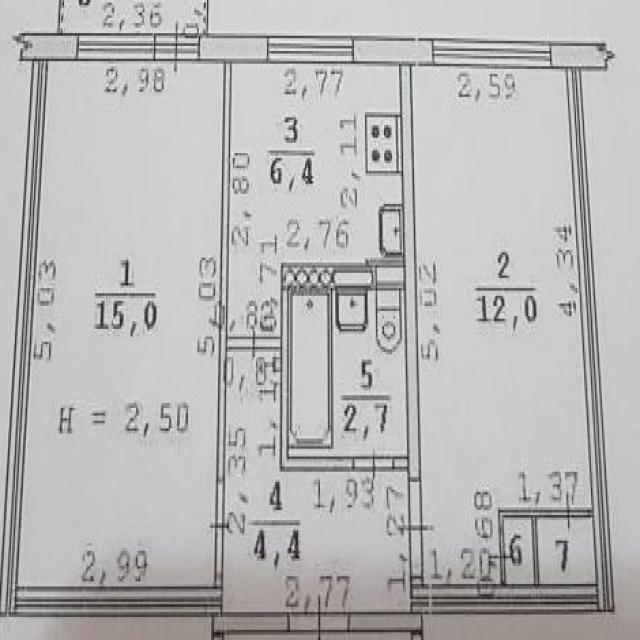Bathrooms: (289, 290, 406, 455)
Corridors: (224, 350, 410, 612), (59, 0, 208, 36), (537, 520, 595, 584), (505, 518, 533, 583)
Doors: (398, 482, 438, 578), (288, 592, 349, 640), (155, 20, 199, 74), (209, 479, 230, 575), (227, 324, 281, 359), (487, 527, 514, 584), (553, 490, 589, 528), (354, 447, 394, 481)
LBwalls: (399, 64, 422, 482), (354, 36, 432, 65), (12, 32, 79, 61), (198, 36, 267, 63), (551, 42, 615, 68)
Offices: (18, 63, 222, 585), (412, 66, 590, 583), (228, 64, 403, 334)
Walls: (0, 60, 223, 618), (410, 68, 615, 611), (280, 261, 404, 473), (217, 63, 232, 483), (498, 509, 554, 586), (212, 613, 290, 635), (349, 611, 424, 633), (393, 455, 408, 471), (410, 577, 424, 585), (214, 575, 224, 586), (411, 632, 424, 640), (212, 632, 224, 640), (588, 509, 592, 520)
Windows: (432, 38, 552, 67), (267, 36, 354, 63), (77, 34, 155, 60)
